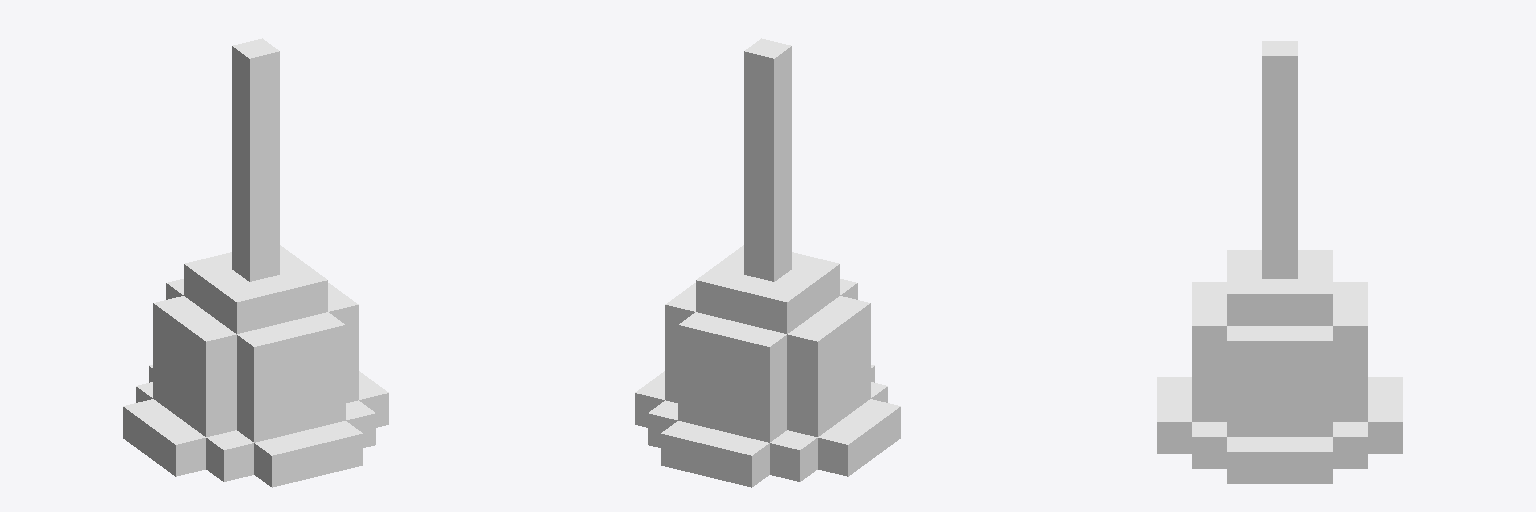
The model's file is bell.obj.
3 views of the same model, side by side, from view 1: azimuth 30°, elevation 25°; view 2: azimuth 150°, elevation 25°; view 3: azimuth 270°, elevation 25° (orthographic).
Parts seen in each view (by area): view 1: object 1; view 2: object 1; view 3: object 1.
Part boxes in pixels (left/top/right/bottom): object 1: left=123, top=38, right=388, bottom=487; object 1: left=635, top=38, right=900, bottom=487; object 1: left=1157, top=41, right=1402, bottom=483.
Bounding box in the file's own units: 0.7 × 1.3 × 0.7.